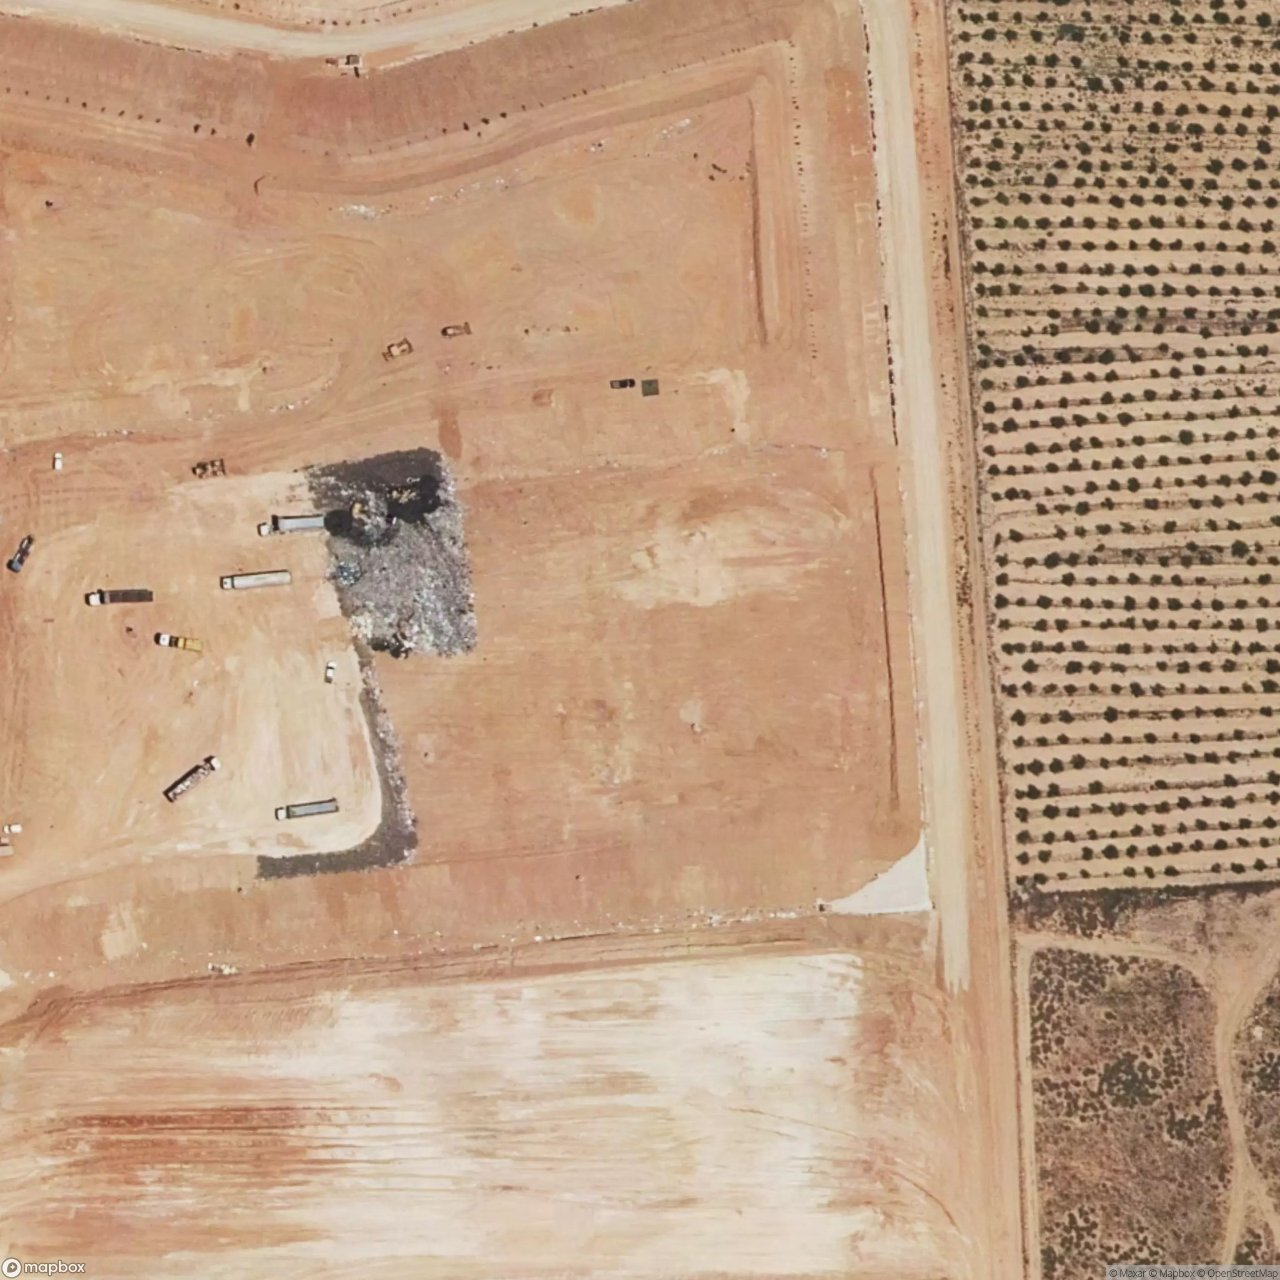dump_site: (309, 452, 477, 670)
